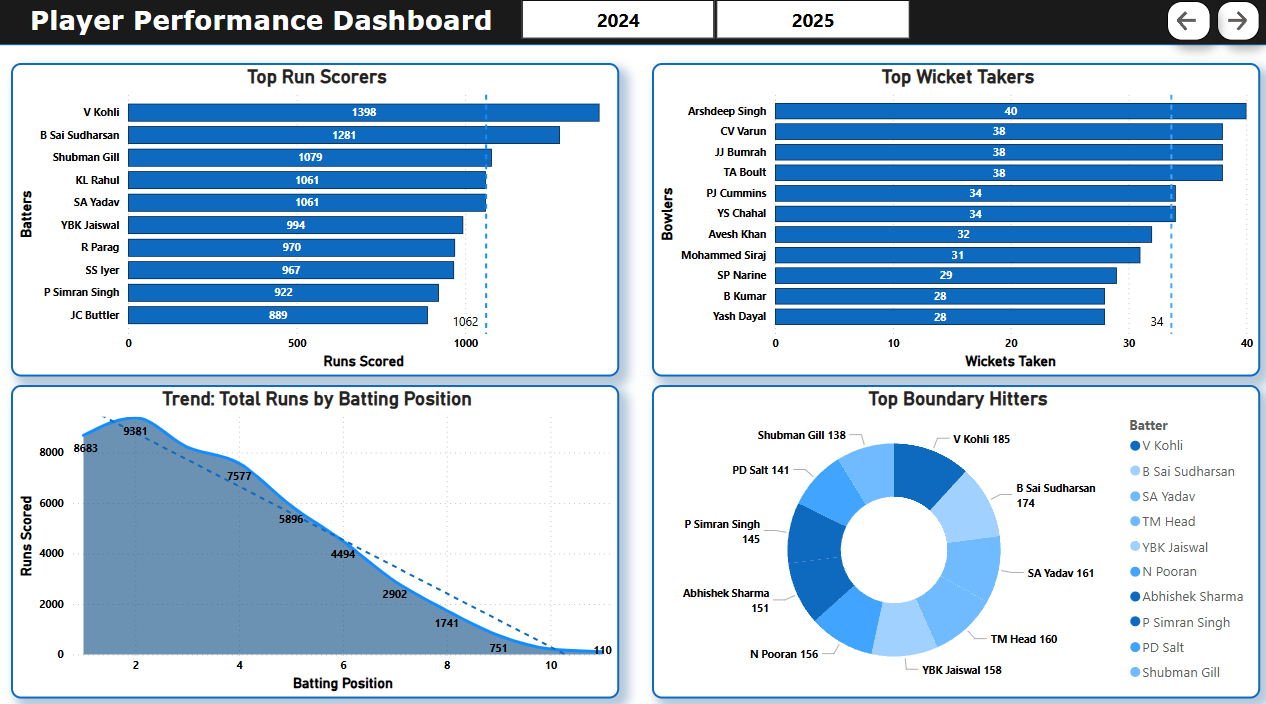

What the dashboard file says about the page in this screenshot:
{"tool":"powerbi","page":{"name":"Player Performance","canvas":[1280,720],"ordinal":2},"visuals":[{"type":"shape","box":[0,0,1280.4,53.5],"z":0},{"type":"textbox","box":[27.2,6.3,487,47.2],"z":1000},{"type":"slicer","fields":{"Values":["ipl_summary_24_25.season"]},"box":[501.5,0.9,440.7,52.6],"z":2000},{"type":"clusteredBarChart","title":"Top Run Scorers","fields":{"Category":["ipl_player_stats_24_25.batter"],"Y":["ipl_player_stats_24_25.runs_batter"]},"box":[12.7,71.6,613,315.6],"z":3000},{"type":"clusteredBarChart","title":"Top Wicket Takers","fields":{"Category":["ipl_player_stats_24_25.bowler"],"Y":["ipl_player_stats_24_25.bowler_wicket"]},"box":[659.2,71.6,613,315.6],"z":4000},{"type":"donutChart","title":"Top Boundary Hitters","fields":{"Category":["ipl_player_stats_24_25.batter"],"Y":["ipl_player_stats_24_25.runs_batter"]},"box":[659.2,396.3,613,315.6],"z":5000},{"type":"lineChart","title":"Trend: Total Runs by Batting Position","fields":{"Y":["ipl_filtered_24_25.runs_batter"],"Category":["ipl_filtered_24_25.bat_pos"]},"box":[12.7,396.3,613,315.6],"z":6000},{"type":"actionButton","box":[1228.6,9.1,43.3,40.3],"z":7000},{"type":"actionButton","box":[1178.2,9.1,44.3,40.3],"z":8000}]}

Visuals, with their boxes in screenshot pixels (x1, y1, x2, y2), scaled from the page's 1280x720 canvas onto the 1266x704 screenshot:
shape: BBox(0, 0, 1265, 52)
textbox: BBox(27, 6, 509, 52)
slicer - ipl_summary_24_25.season: BBox(496, 1, 932, 52)
"Top Run Scorers" clusteredBarChart: BBox(13, 70, 619, 379)
"Top Wicket Takers" clusteredBarChart: BBox(652, 70, 1258, 379)
"Top Boundary Hitters" donutChart: BBox(652, 387, 1258, 696)
"Trend: Total Runs by Batting Position" lineChart: BBox(13, 387, 619, 696)
actionButton: BBox(1215, 9, 1258, 48)
actionButton: BBox(1165, 9, 1209, 48)
